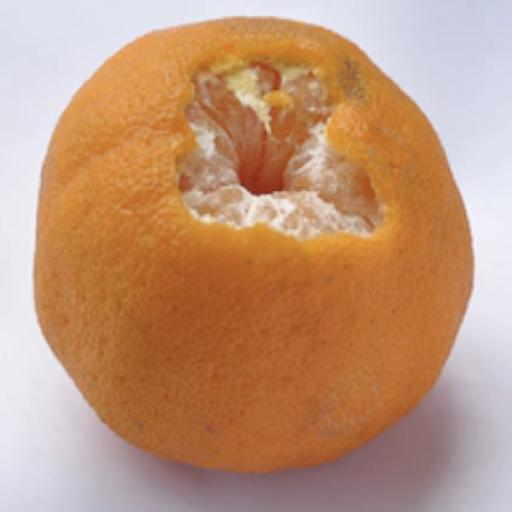orange: (35, 18, 472, 471)
